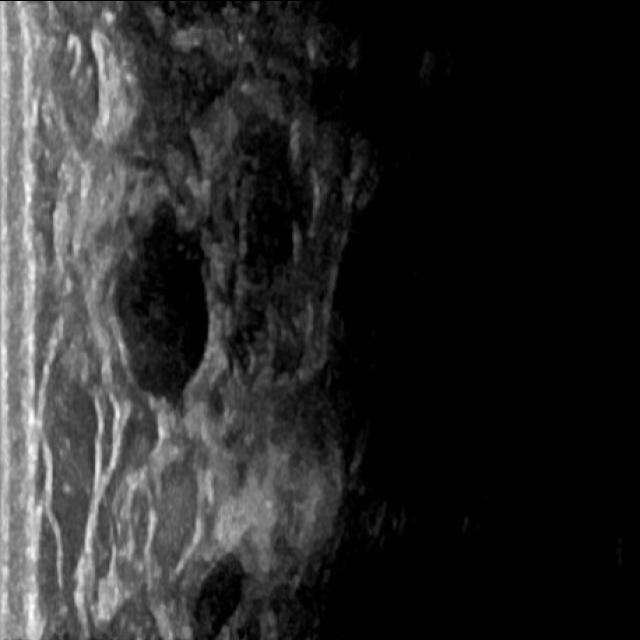Benign: (112, 208, 222, 386)
